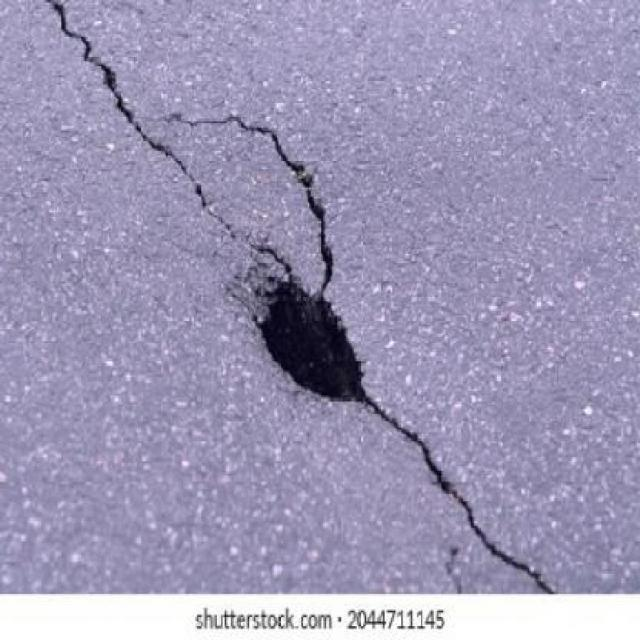pothole: (246, 256, 372, 409)
